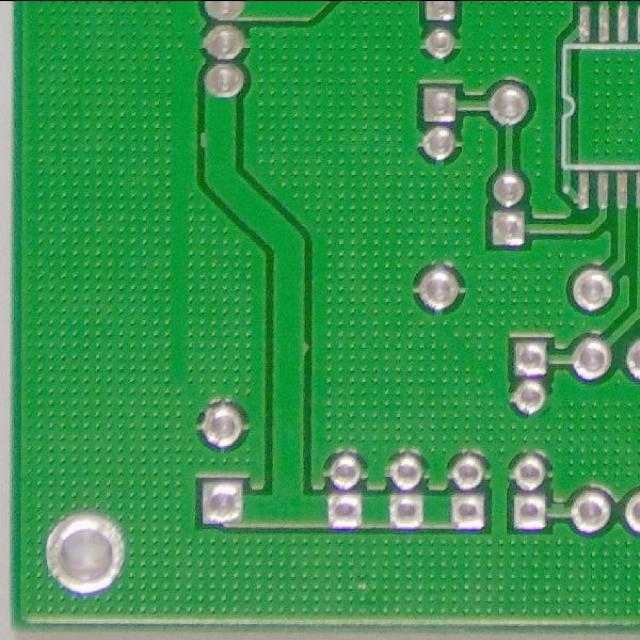spur: (287, 324, 318, 371), (193, 119, 223, 158)
